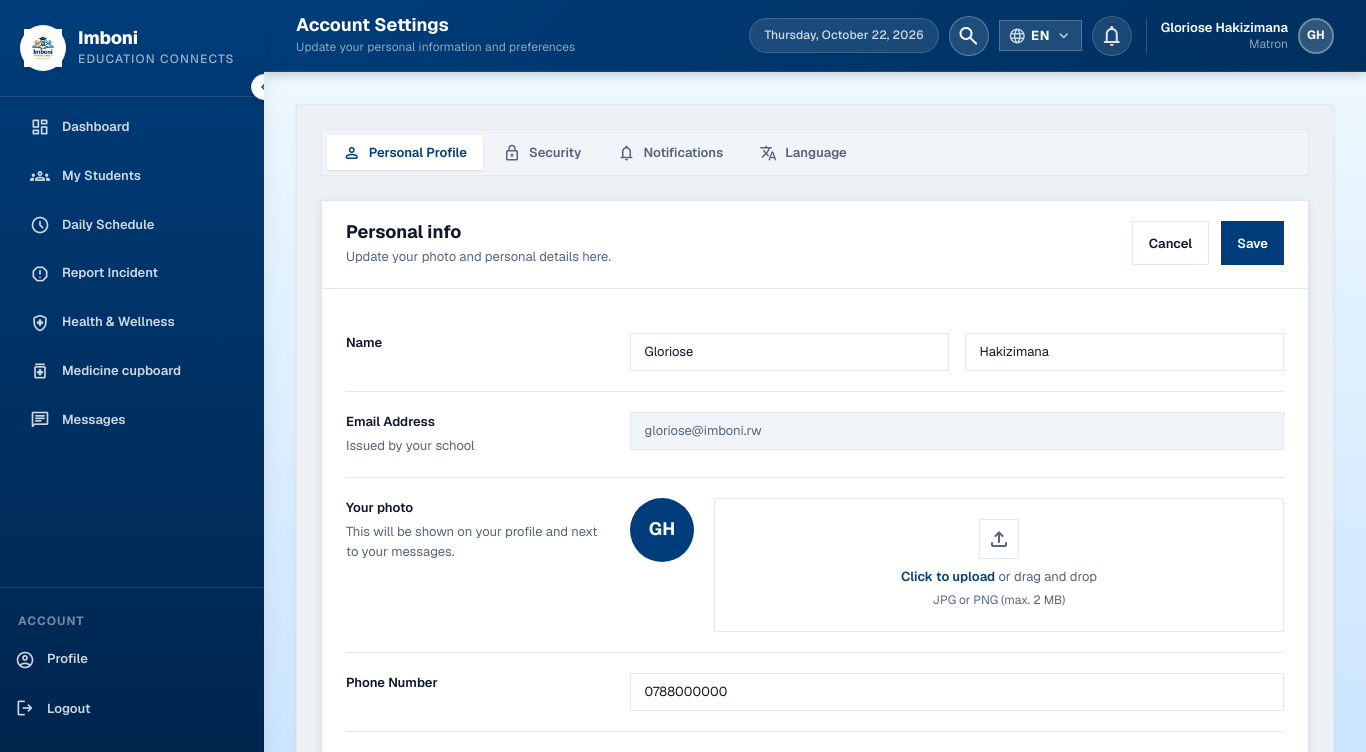
Scenario: Account › changes the password successfully and clears the form
The image size is (1366, 752).
Check: the field showing "Gloriose" is shown, box 630,333 -> 949,371
Click the tab "Security".
click(542, 153)  # box 487,135 -> 597,170
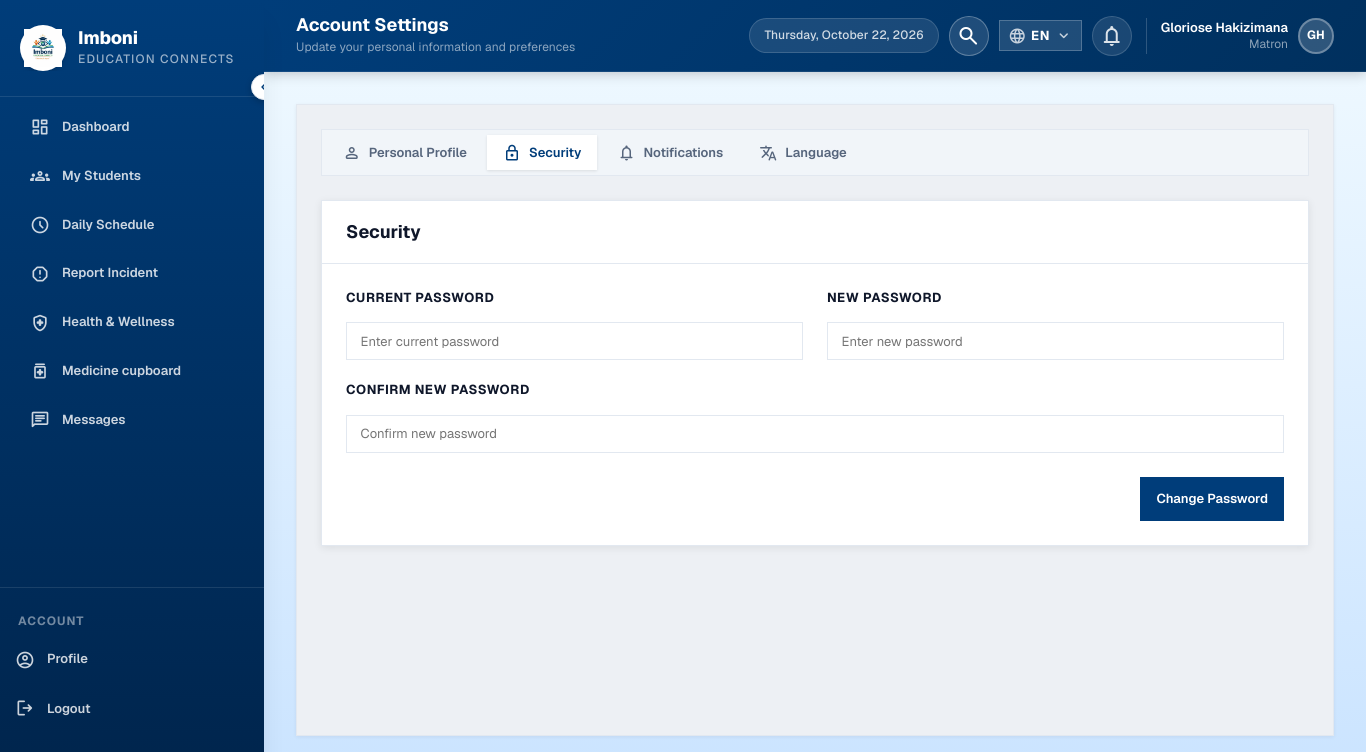
Type "oldpass123" into the password field with placeholder "Enter current password".
click(574, 341); type("oldpass123")  # box 346,322 -> 803,360
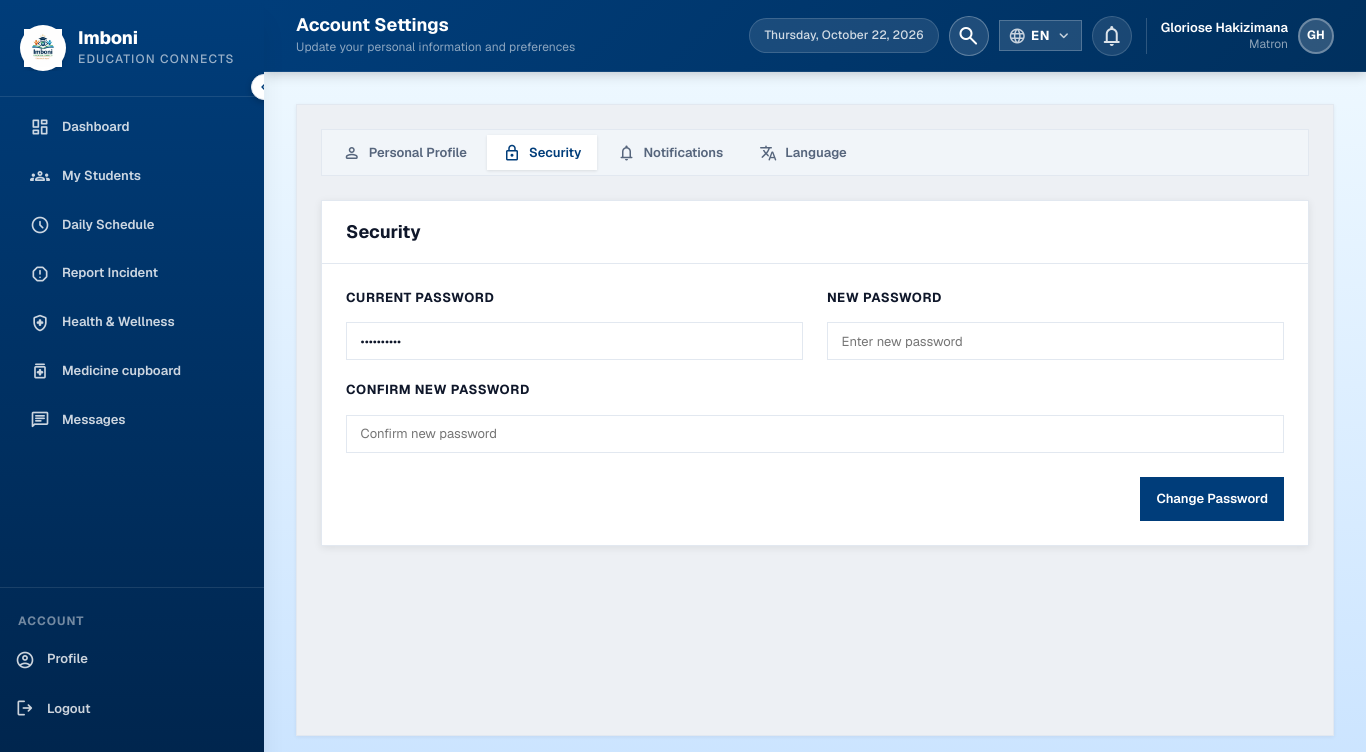
Type "newpass123" into the password field with placeholder "Enter new password".
click(1056, 341); type("newpass123")  # box 827,322 -> 1284,360
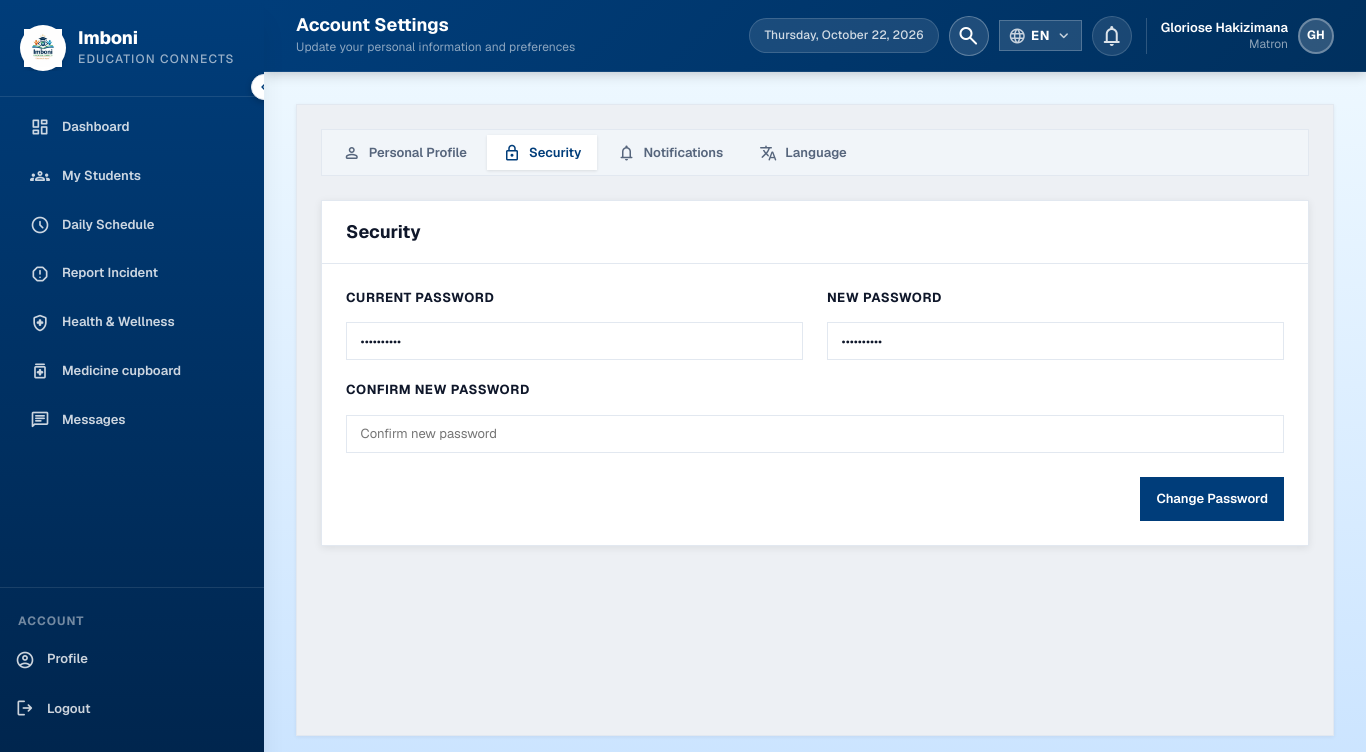
Type "newpass123" into the password field with placeholder "Confirm new password".
click(815, 434); type("newpass123")  # box 346,415 -> 1284,453
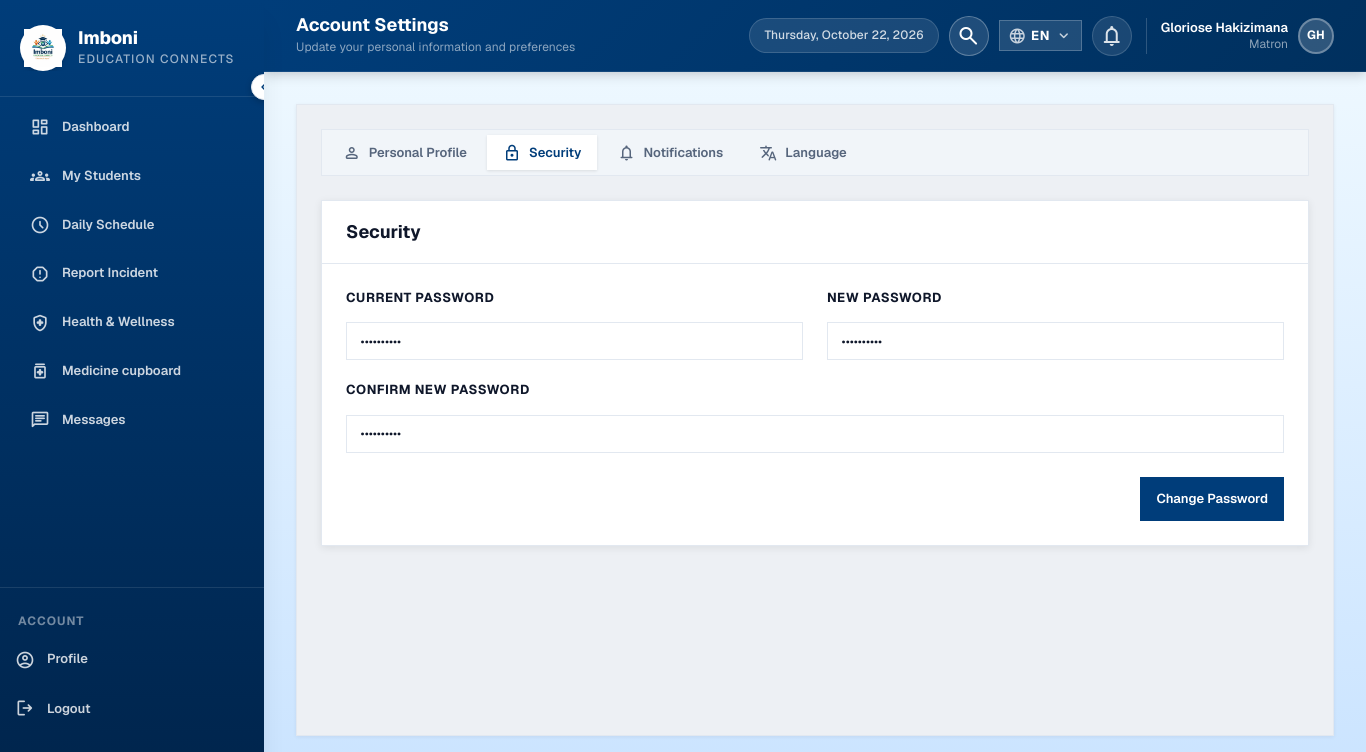
Click the button "Change Password".
click(1212, 499)  # box 1140,477 -> 1284,521
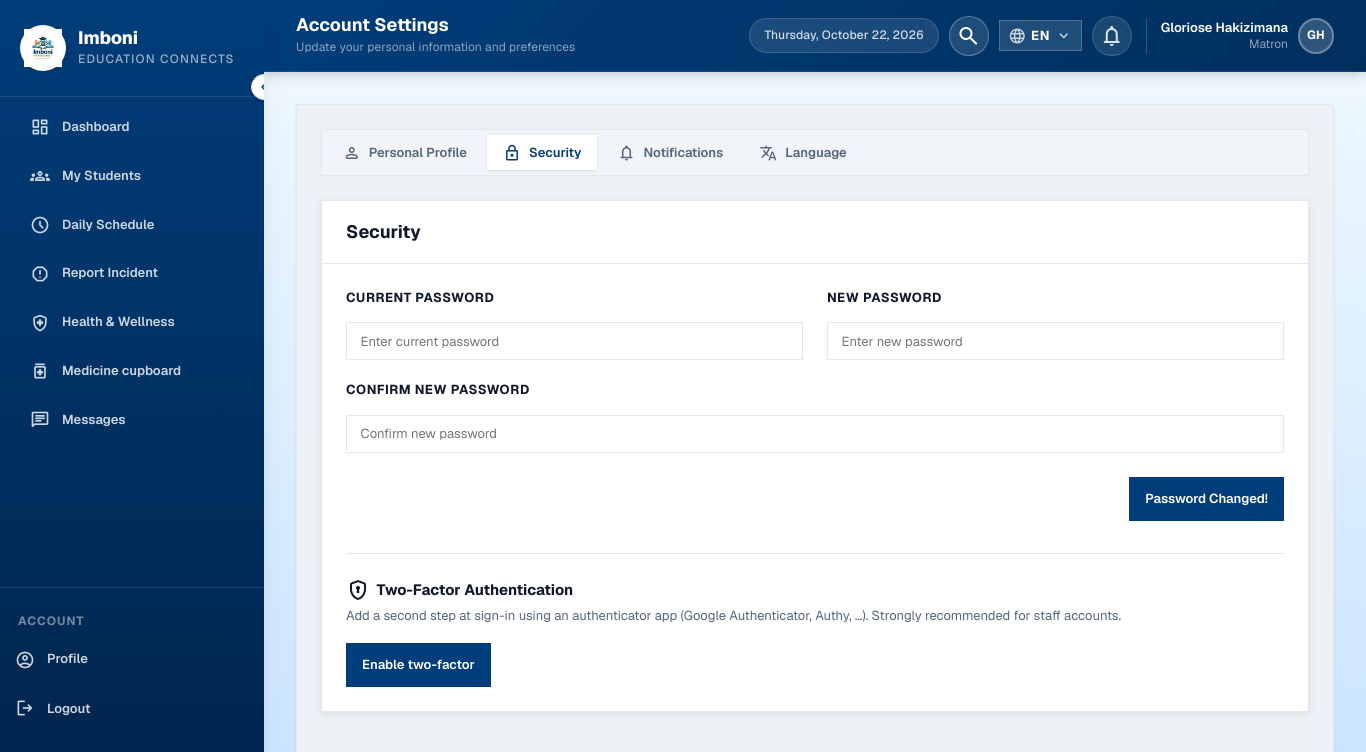
Check: the button "Password Changed!" is shown, box 1129,477 -> 1284,521
Check: the password field with placeholder "Enter current password" is empty, box 346,322 -> 803,360
